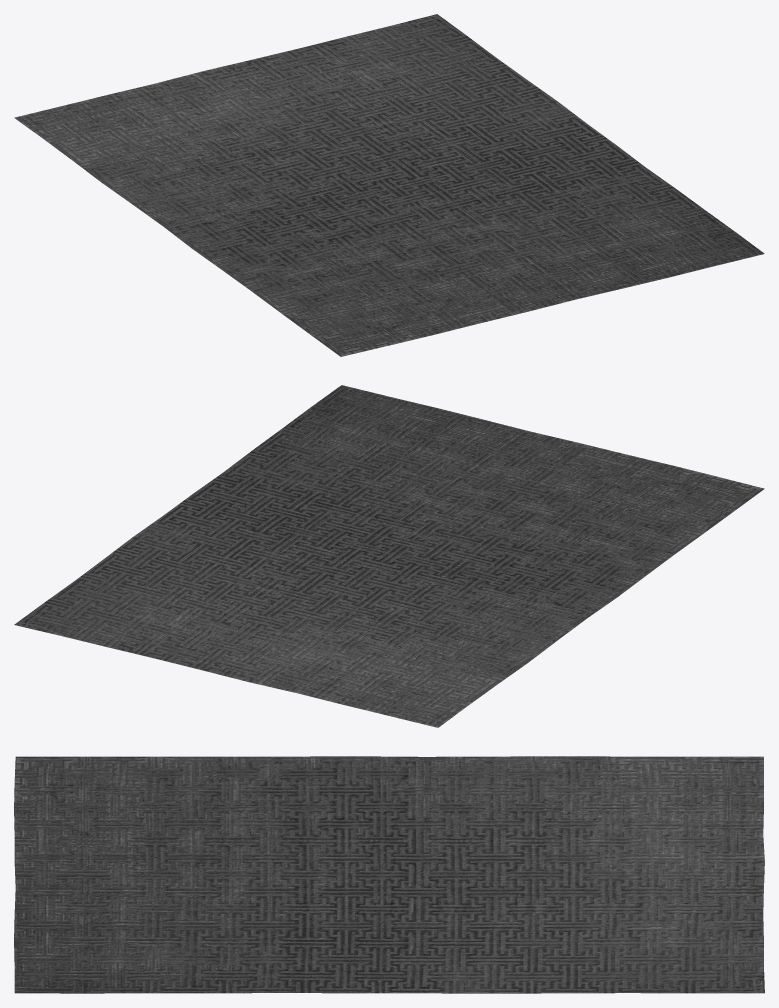
The model's file is carpet.glb.
The picture shows the model from 3 angles, top to bottom: view 1: azimuth 30°, elevation 25°; view 2: azimuth 150°, elevation 25°; view 3: azimuth 270°, elevation 25°; orthographic projection. The views are drawn at different scales.
Visible parts, largest first — view 1: carpet; view 2: carpet; view 3: carpet.
Part boxes in pixels (x1=…): carpet: x1=14, y1=14, x2=764, y2=356; carpet: x1=14, y1=385, x2=764, y2=727; carpet: x1=14, y1=756, x2=764, y2=993.
Size of the model in its own units: 1.62 by 3.65e-07 by 2.17.
1 material, 1 textured.
